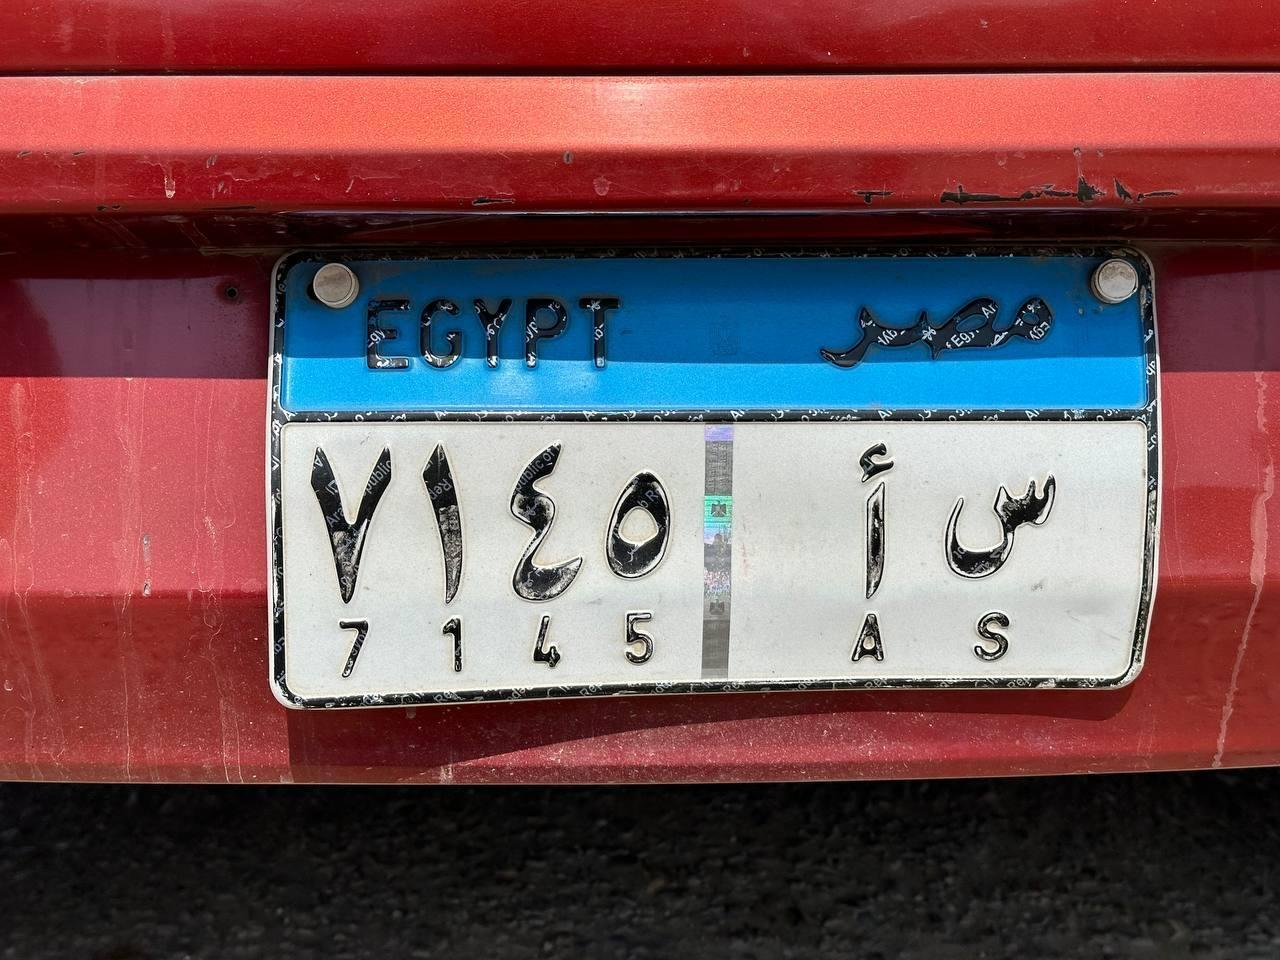1: (414, 434, 474, 606)
4: (506, 436, 594, 606)
5: (606, 466, 676, 594)
7: (296, 432, 400, 609)
License Plate: (261, 243, 1164, 711)
Seen: (909, 460, 1113, 602)
alef: (858, 436, 892, 606)
